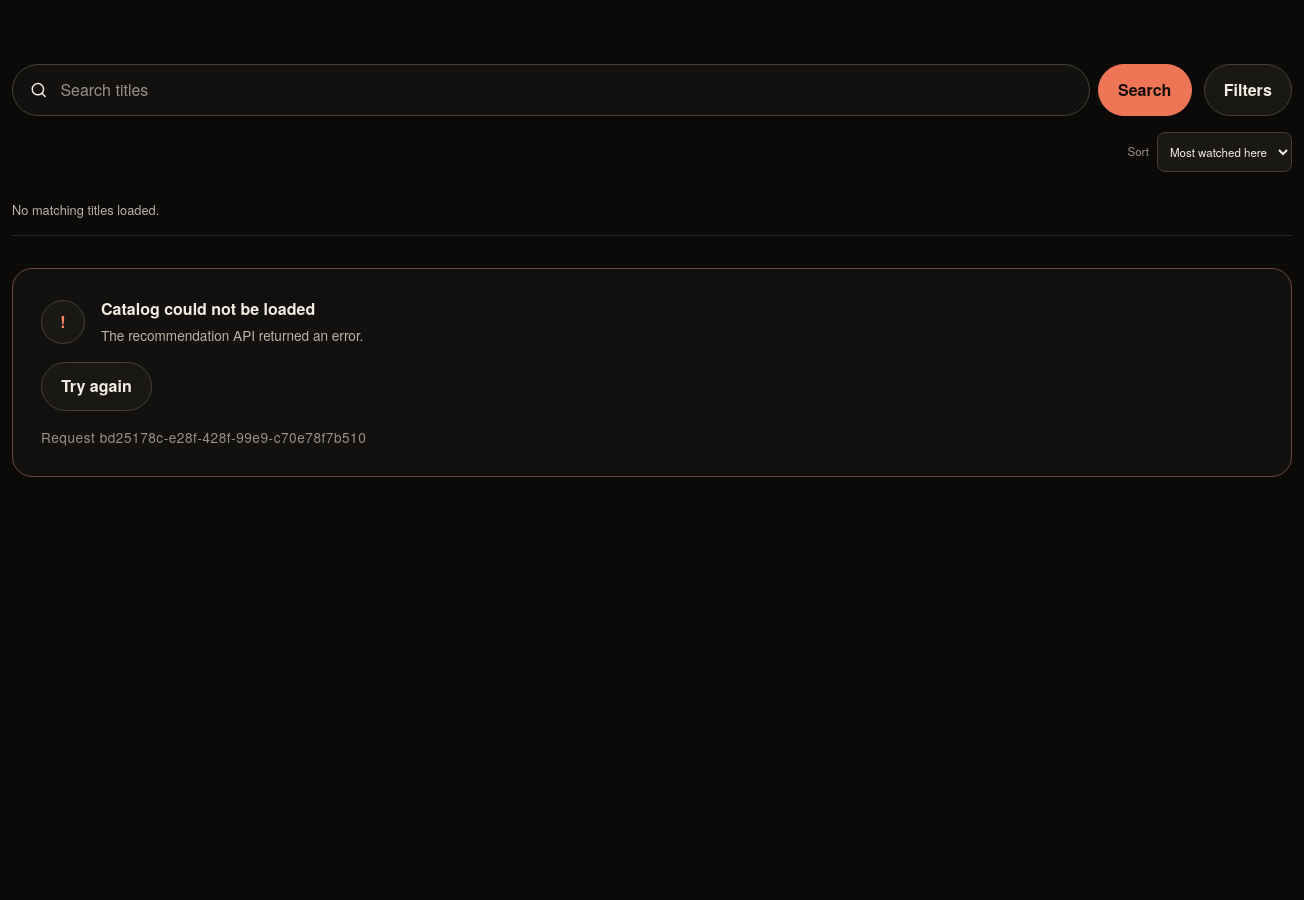
Scenario: Browse grid states › reports an upstream failure as its own state and retries on demand
Check: the message shows "Catalog could not be loaded", box left=101, top=297, right=315, bottom=320
Click the button "Try again": (96, 386) left=41, top=362, right=152, bottom=411
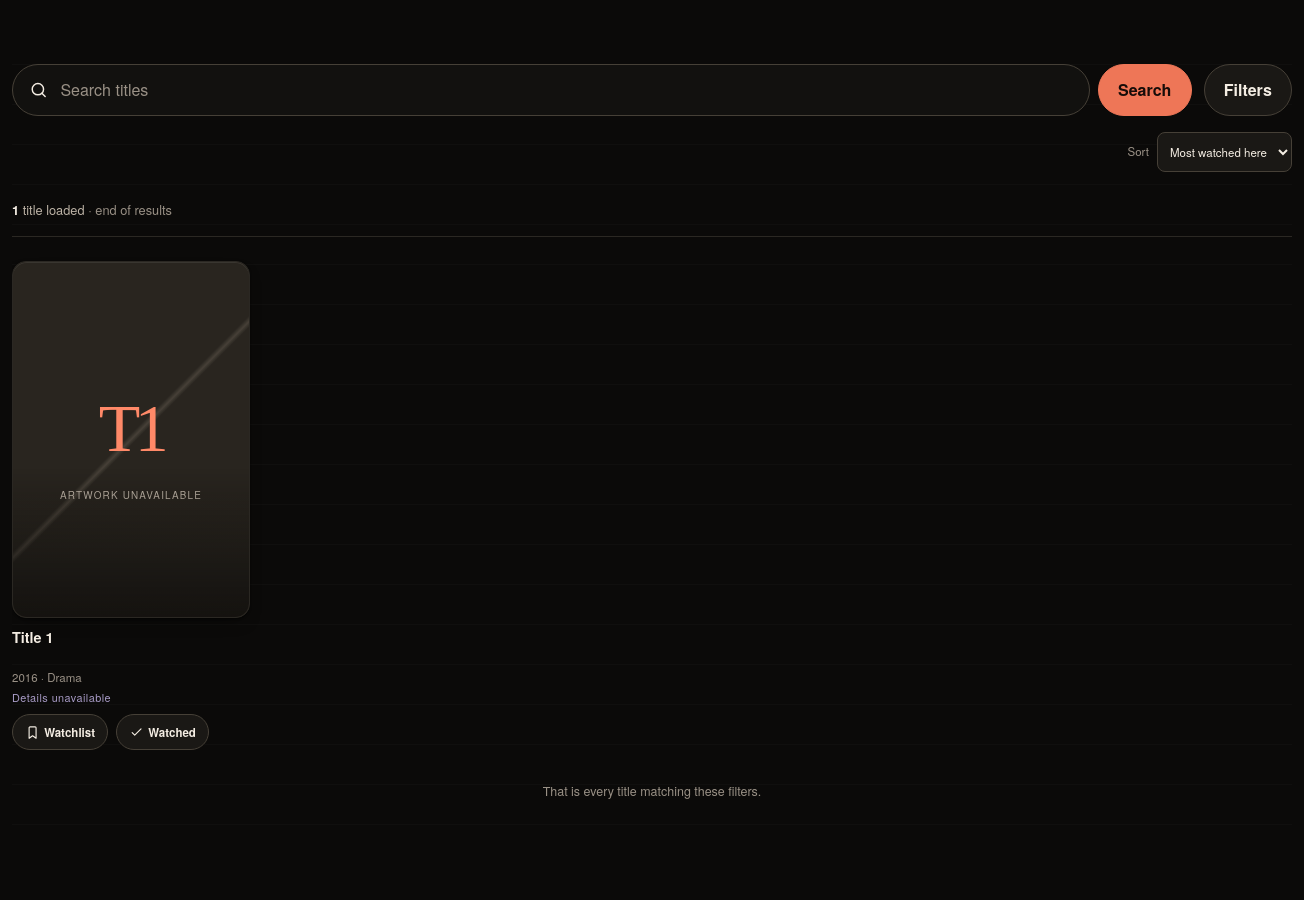
Check: the list named "Browse results" is shown, box left=12, top=261, right=250, bottom=750
